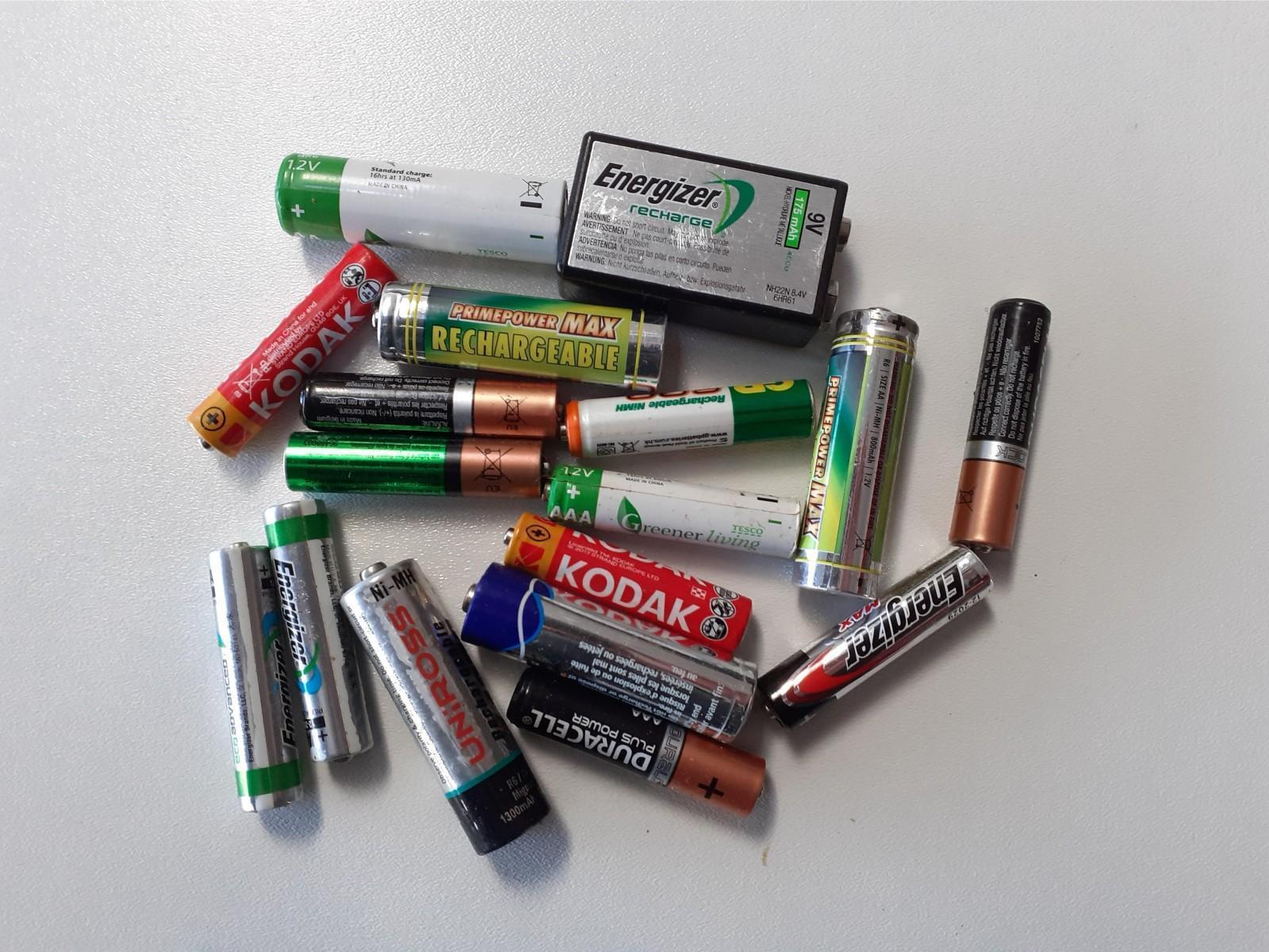AA: (337, 555, 557, 862), (456, 555, 761, 752), (183, 234, 408, 461), (754, 539, 1003, 737), (786, 301, 926, 605), (495, 508, 758, 668), (369, 276, 676, 398), (270, 147, 571, 270), (258, 496, 379, 767), (947, 293, 1056, 562), (540, 458, 805, 565), (204, 536, 304, 815), (558, 374, 824, 465), (295, 364, 565, 444), (276, 428, 548, 505)
